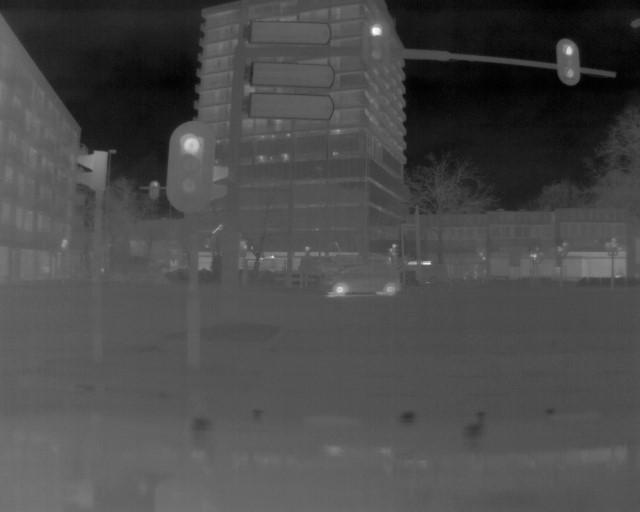car: (324, 261, 403, 297)
